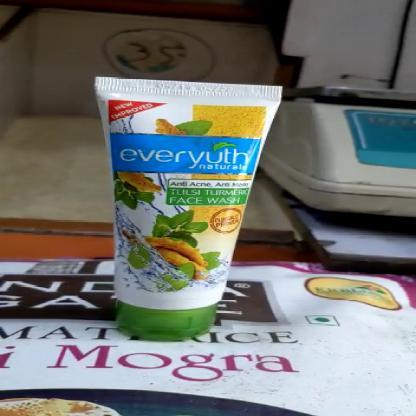EY AAAM TULSI TURMERIC FACEWASH50G: (107, 81, 253, 337)
